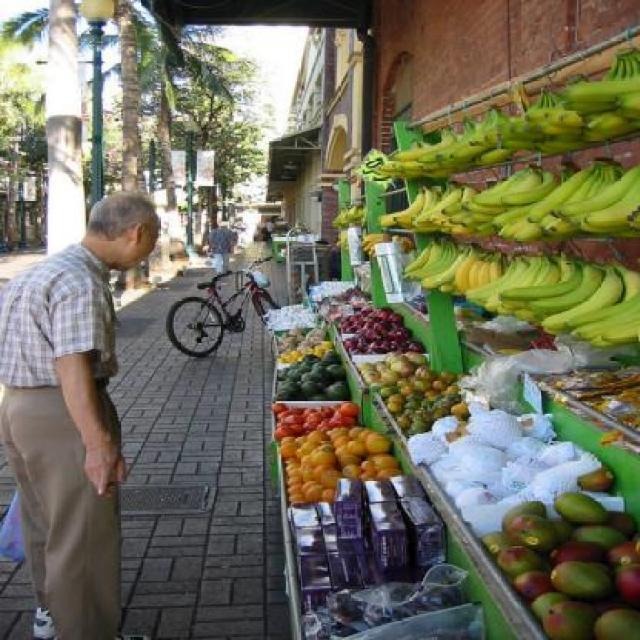Banana: (376, 67, 639, 350), (331, 206, 371, 254)
